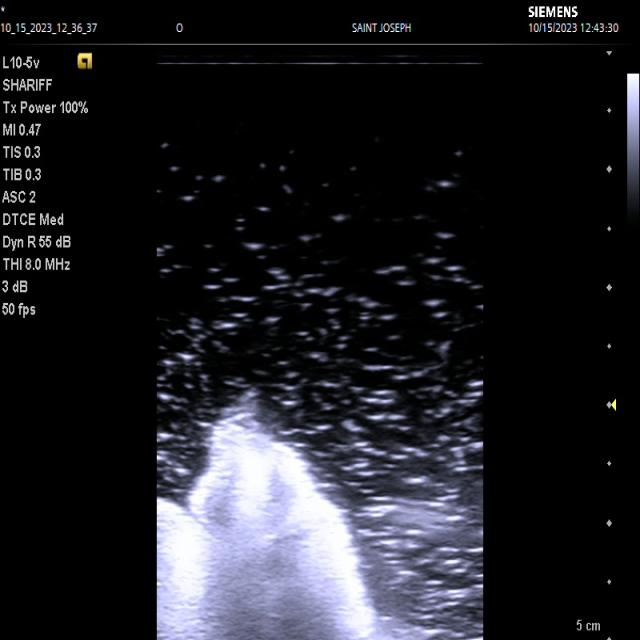tissue: (159, 393, 414, 640)
